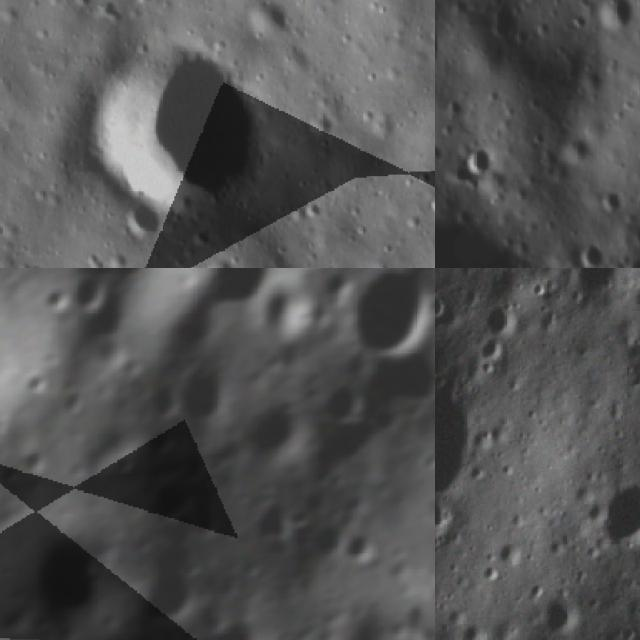crater: (77, 48, 259, 201), (12, 522, 131, 634), (327, 268, 435, 369), (32, 268, 214, 323), (185, 268, 319, 336), (165, 340, 245, 427), (130, 552, 214, 634), (235, 386, 314, 466), (435, 343, 467, 488), (249, 276, 318, 342), (311, 368, 374, 434), (174, 607, 288, 640), (332, 514, 391, 573), (57, 268, 114, 329), (604, 469, 640, 549), (299, 505, 345, 564), (553, 126, 602, 173), (456, 138, 496, 184), (110, 203, 167, 234), (247, 0, 298, 33), (593, 0, 640, 35), (540, 596, 581, 636), (568, 268, 619, 297), (594, 179, 630, 219), (572, 232, 609, 268), (435, 491, 455, 557), (483, 301, 520, 336), (542, 528, 576, 562), (402, 583, 422, 638), (435, 11, 451, 74), (494, 538, 529, 566), (459, 614, 490, 640), (474, 339, 506, 361), (201, 251, 234, 268), (618, 244, 640, 268), (630, 287, 640, 316), (423, 194, 435, 217), (435, 291, 442, 320)
